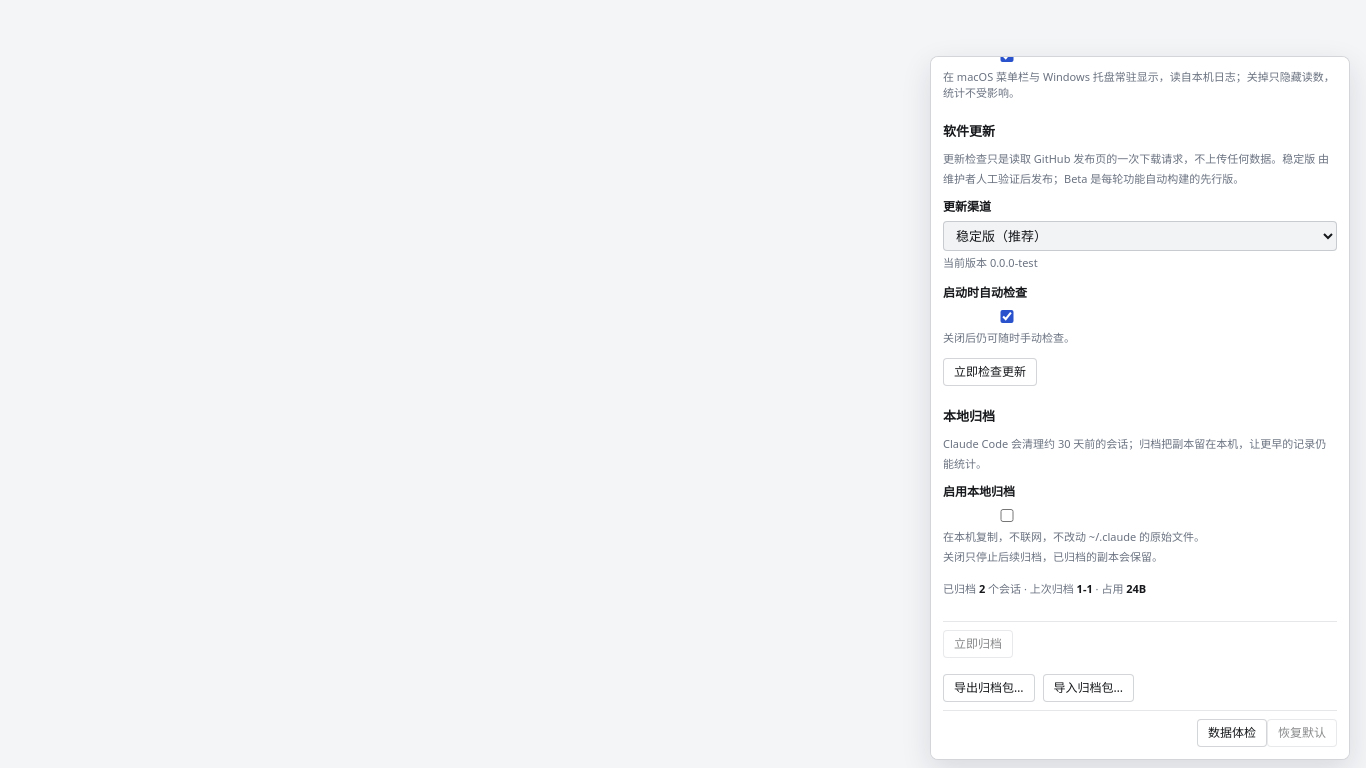
Test: 归档包（Issue #152） › 导出：口令要输两次且一致，读数报条目数与大小
(page scrolled)
Step 1. Click the button "导出归档包…" → (989, 688), box [943,674,1034,702]
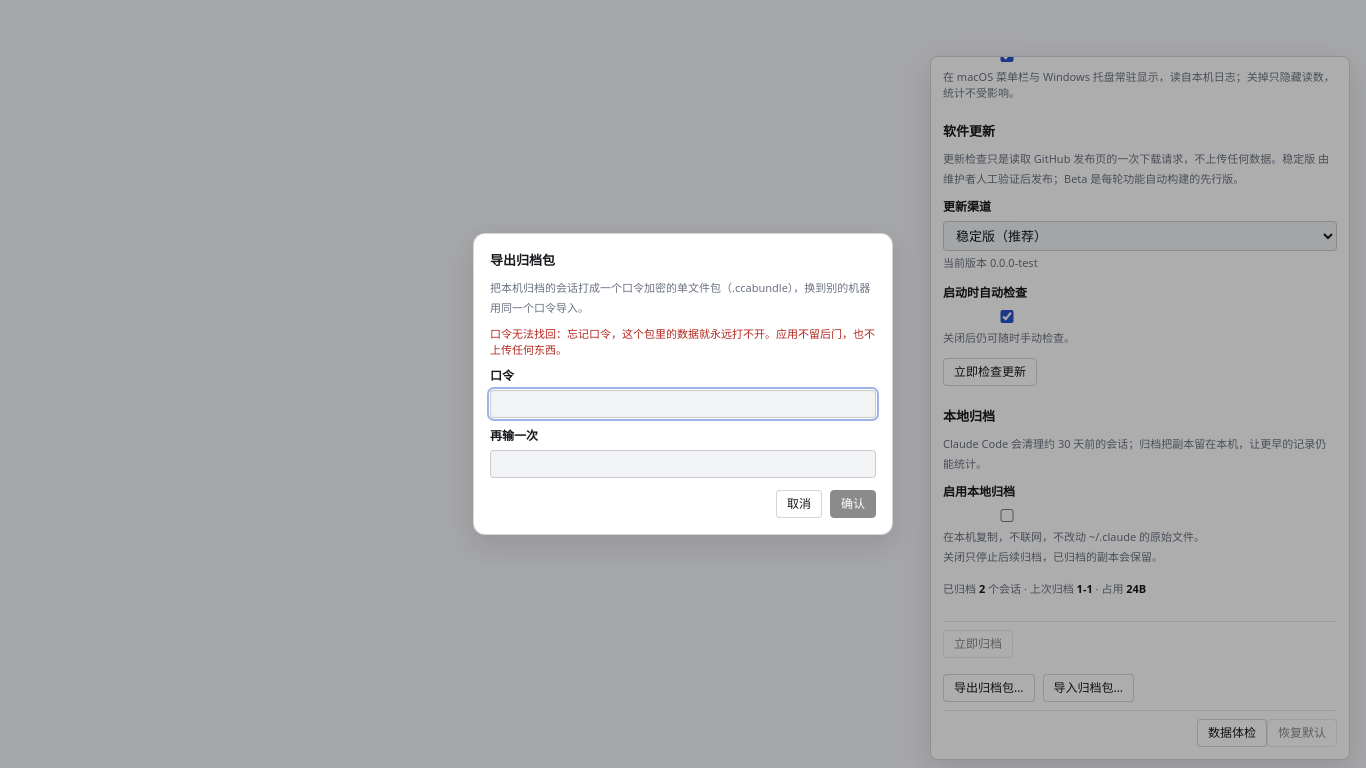
Expected: the text "口令无法找回：忘记口令，这个包里的数据就永远打不开。应用不留后门，也不上传任何东西。" is shown, [490,326,876,358]
Expected: the button "确认" is disabled, [830,490,876,518]
Step 2. Type "hunter2" into the password field labelled "口令" → (683, 404), box [490,390,876,418]
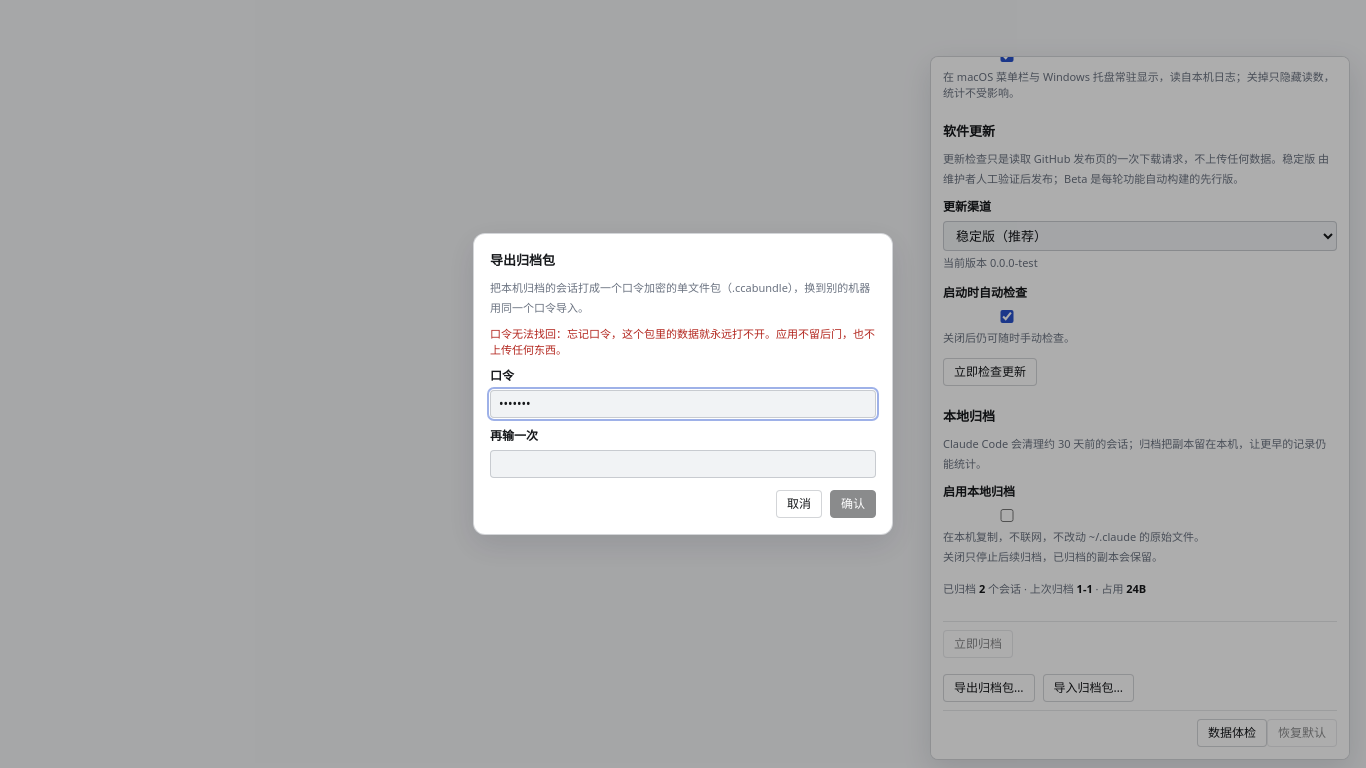
Step 3. Type "hunter3" into the password field labelled "再输一次" → (683, 464), box [490,450,876,478]
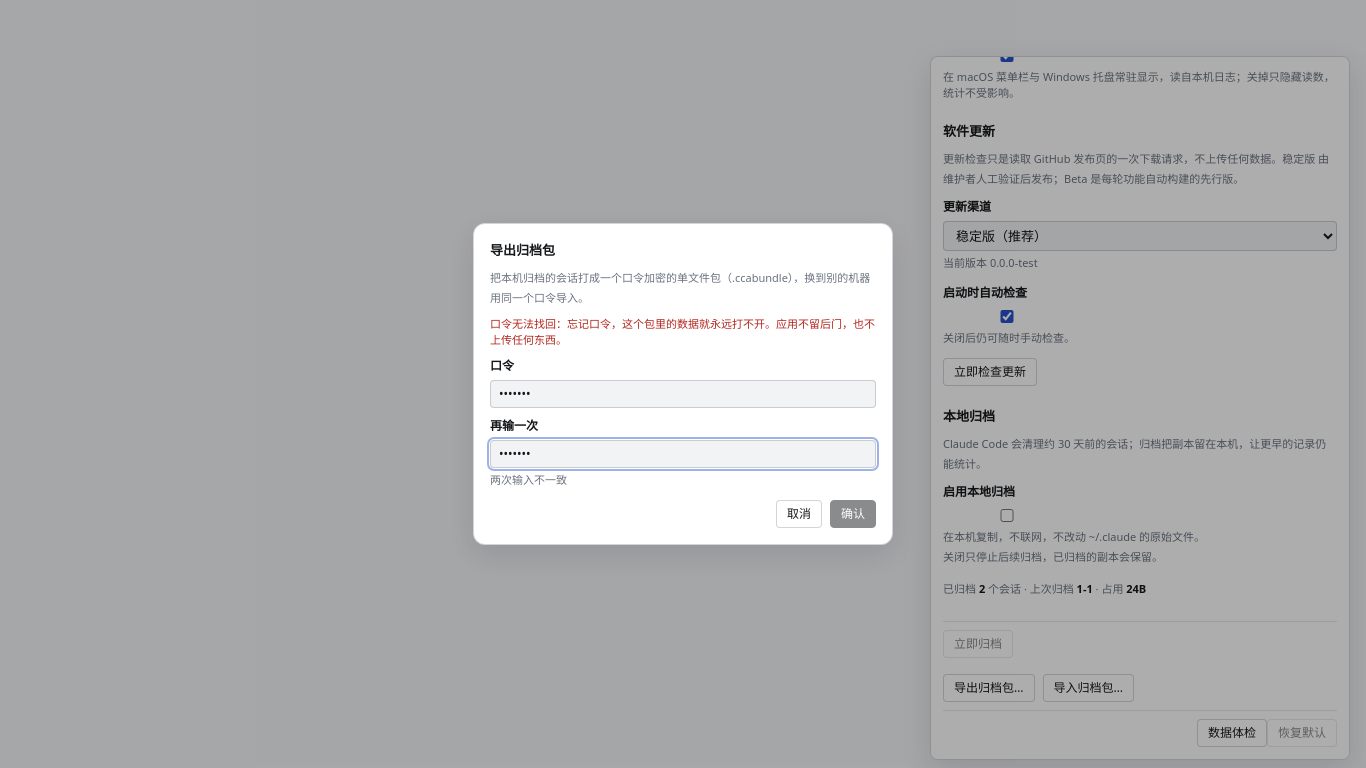
Expected: the button "确认" is disabled, [830,500,876,528]
Expected: the text "两次输入不一致" is shown, [490,472,567,487]
Step 4. Clear the password field labelled "再输一次 两次输入不一致" → (683, 454), box [490,440,876,468]
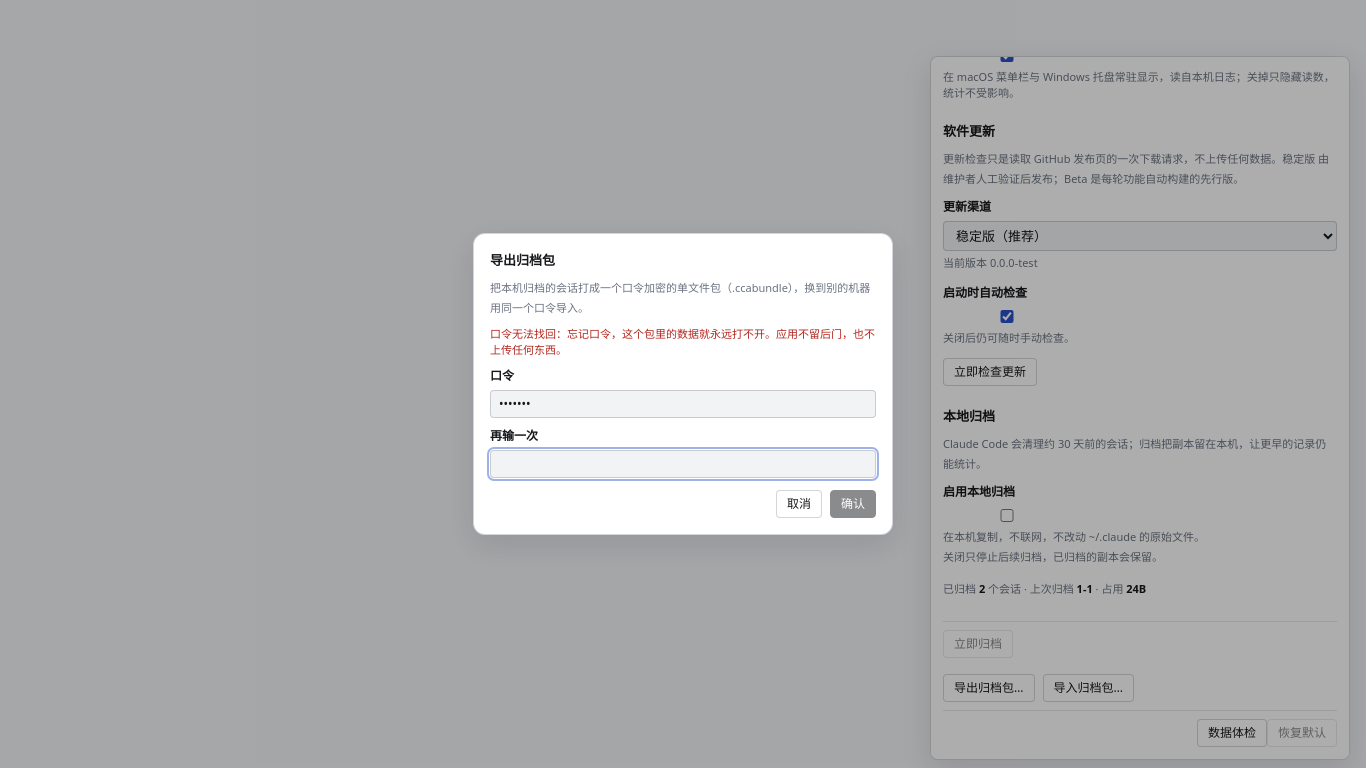
Step 5. Type "hunter2" into the password field labelled "再输一次" → (683, 464), box [490,450,876,478]
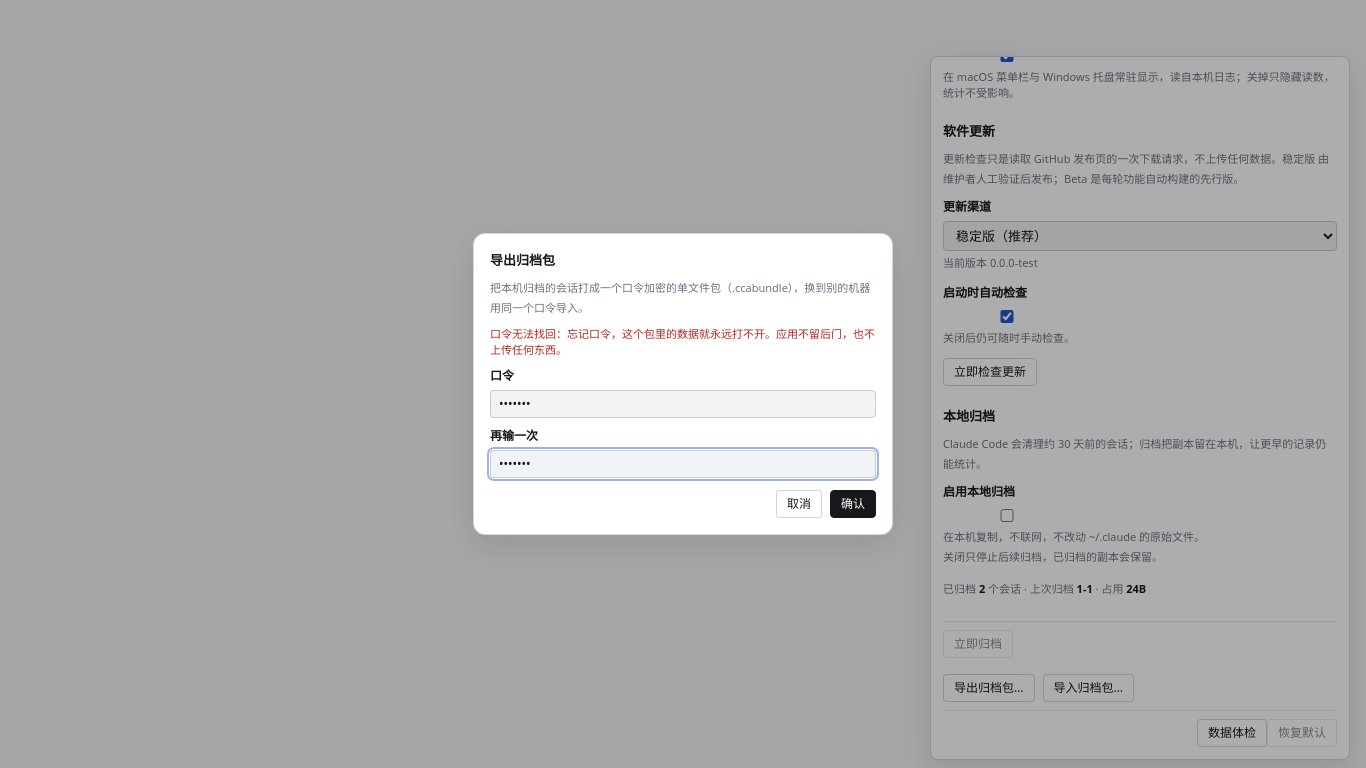
Step 6. Click the button "确认" → (853, 504), box [830,490,876,518]
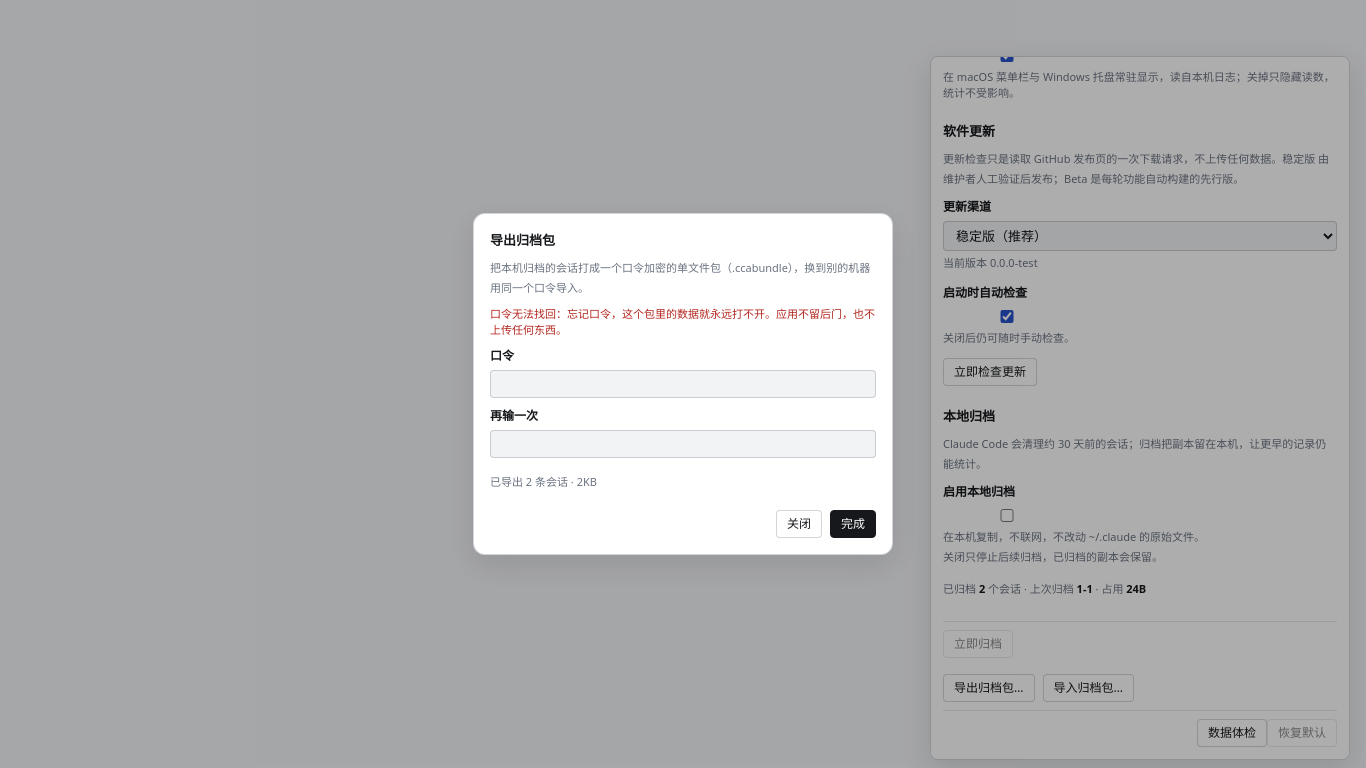
Expected: the text "已导出 2 条会话 · 2KB" is shown, [490,474,597,489]
